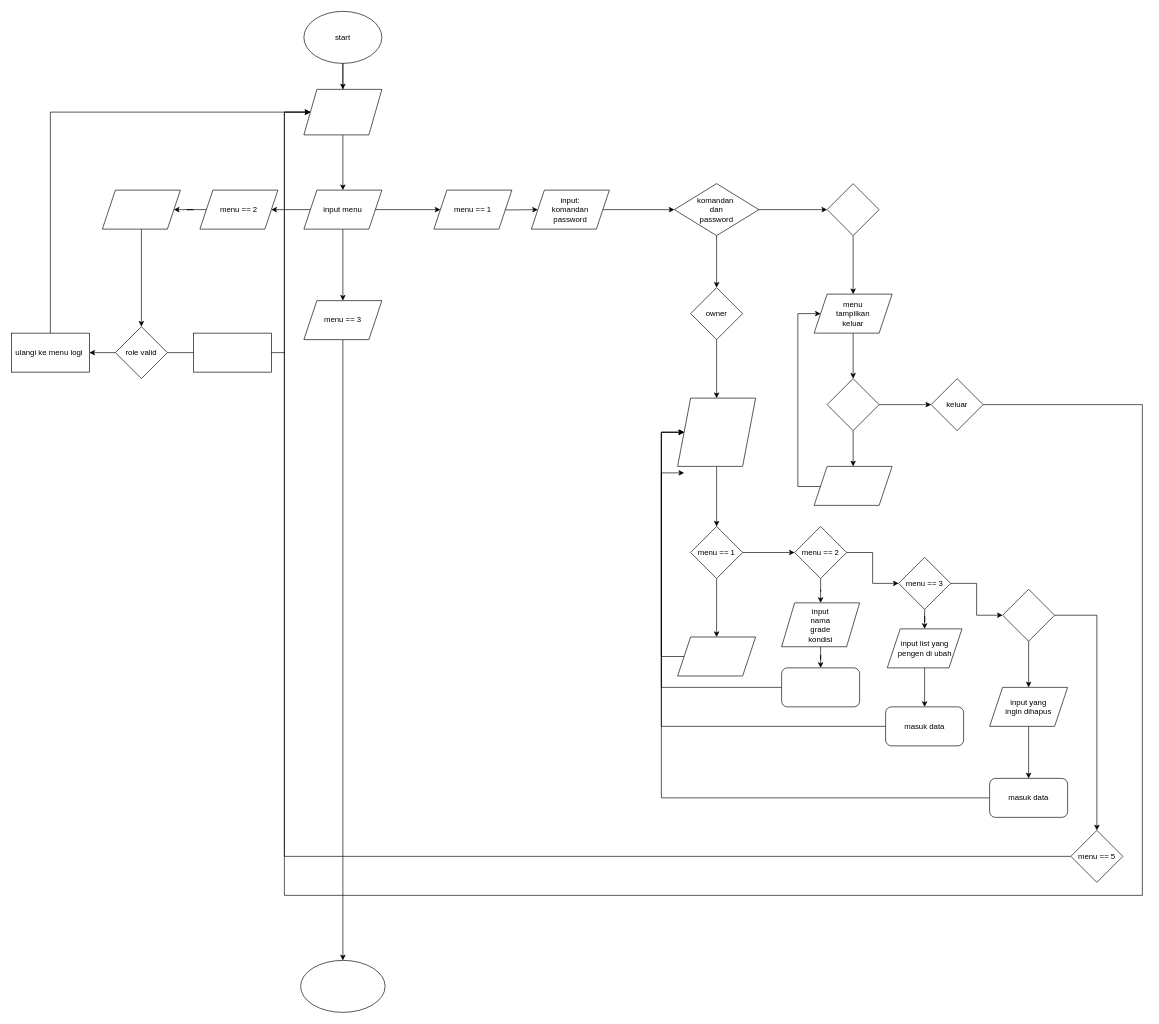
The diagram is 1159 pixels wide and 1024 high, and some of its shapes have lost their labels. Here are the shapes that lost their labels. From the top down, the centre of each, then its label:
At point 342,112: "ouput: menu 1.login 2.register 3.keluar".
At point 141,209: "input komandan baru role baru".
At point 852,209: "pelancong".
At point 232,352: "tambah ke dictionary".
At point 852,404: "tampilkan".
At point 716,431: "menu tampilkan tambah update hapus keluar".
At point 852,485: "output tampilkn gundam".
At point 1028,615: "menu == 4".
At point 716,656: "ouput tampilkan gundam".
At point 820,687: "masuk ke data".
At point 342,986: "end".
